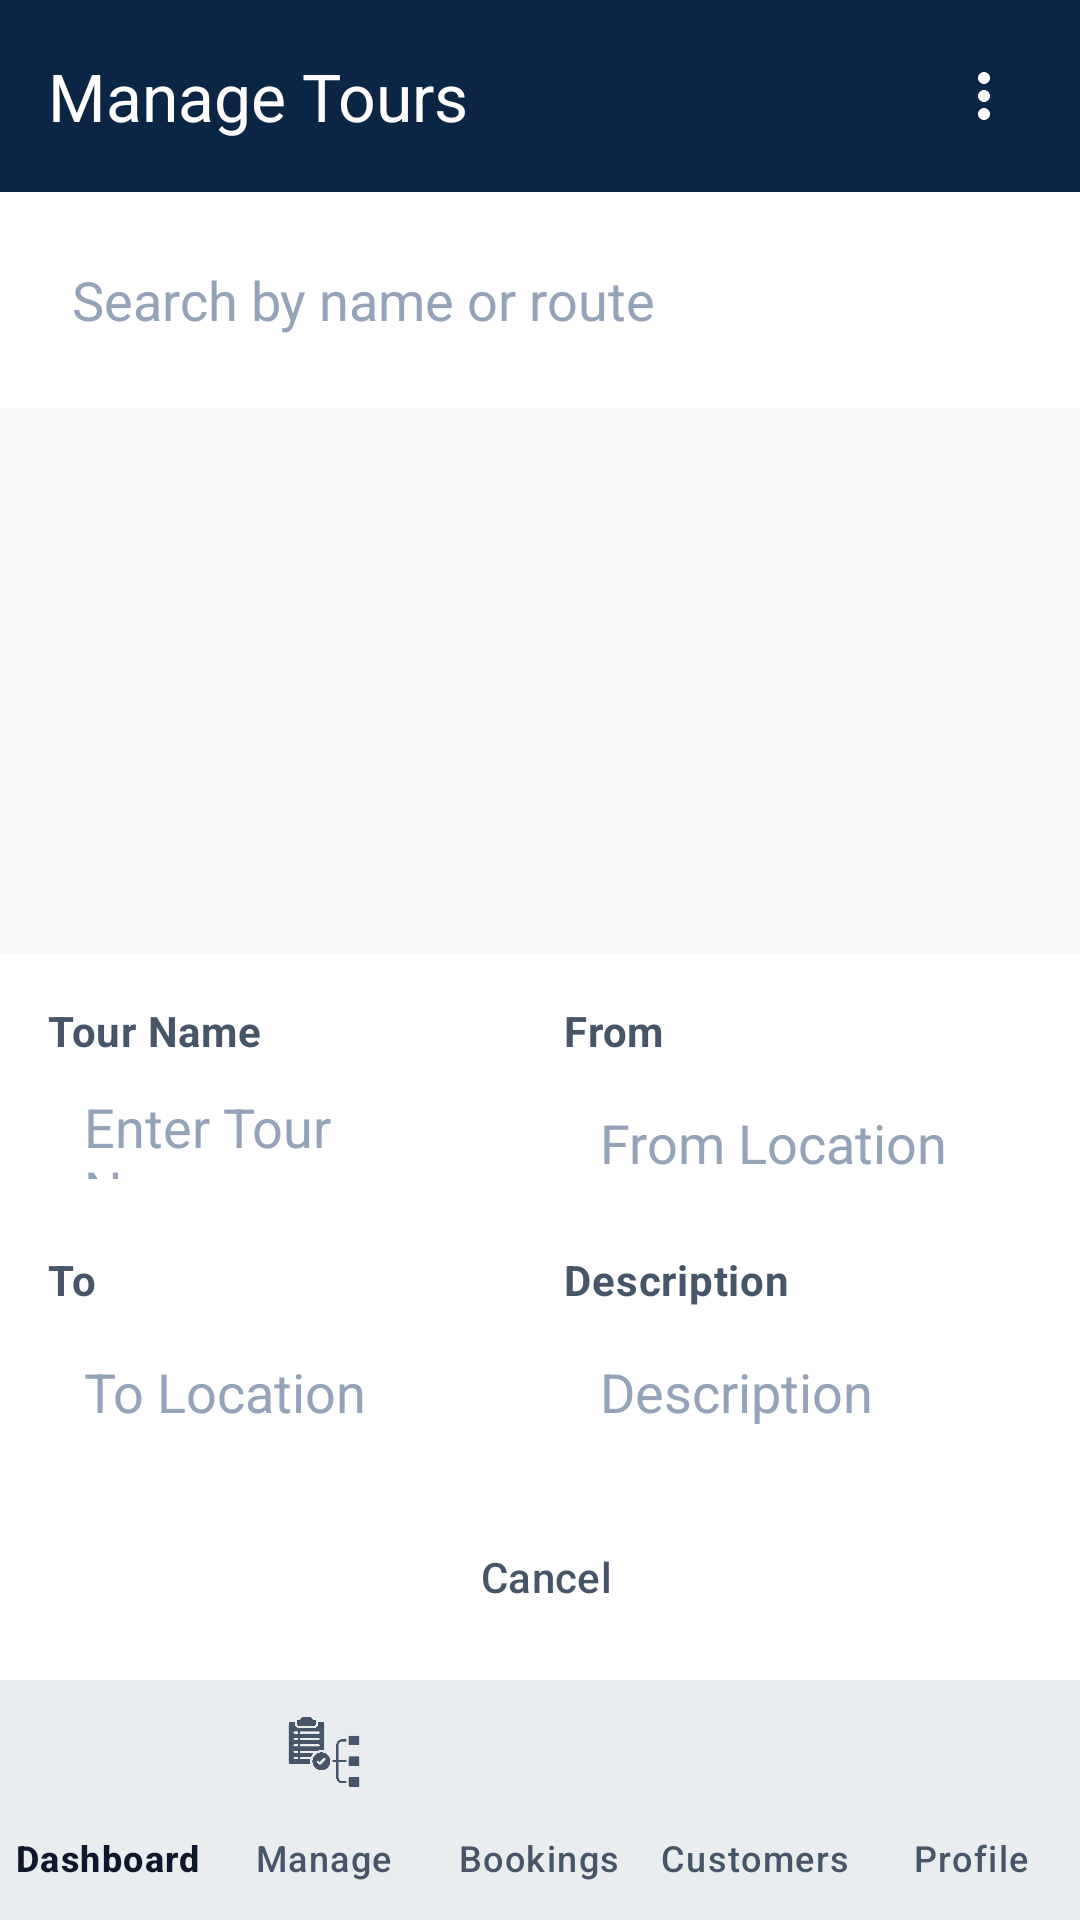

Where to tap for icons on this 1080 x 1920 app screen, as (x=x, y=y):
Menu: (x=984, y=96)
